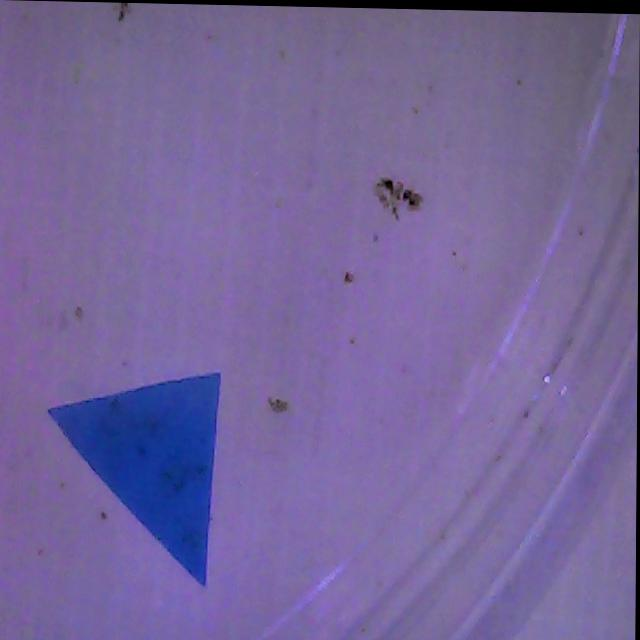microplastic: (37, 361, 220, 585)
